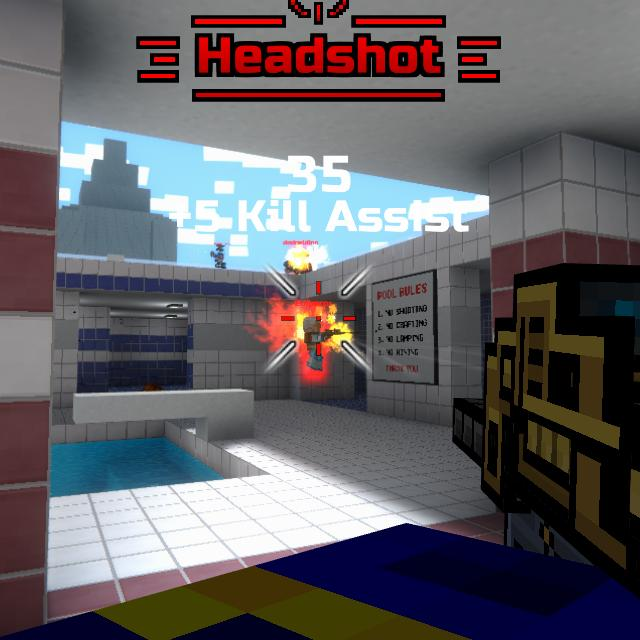Enemy: (300, 315, 333, 372), (286, 249, 312, 274)
